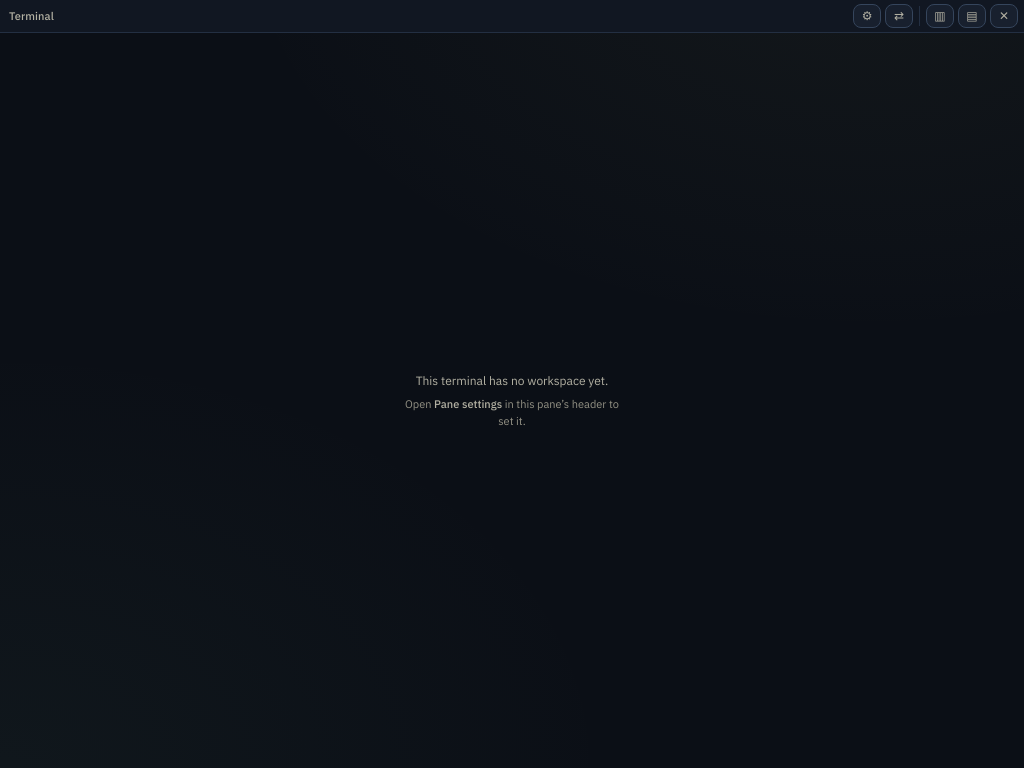
Test case: the settings form is a dialog over the app › is a modal dialog, named for the primitive it configures
Expected: the element with test id "view-host" is shown, [0,0,1023,428]
Click the button "⚙": (867, 16) [853,4,881,28]
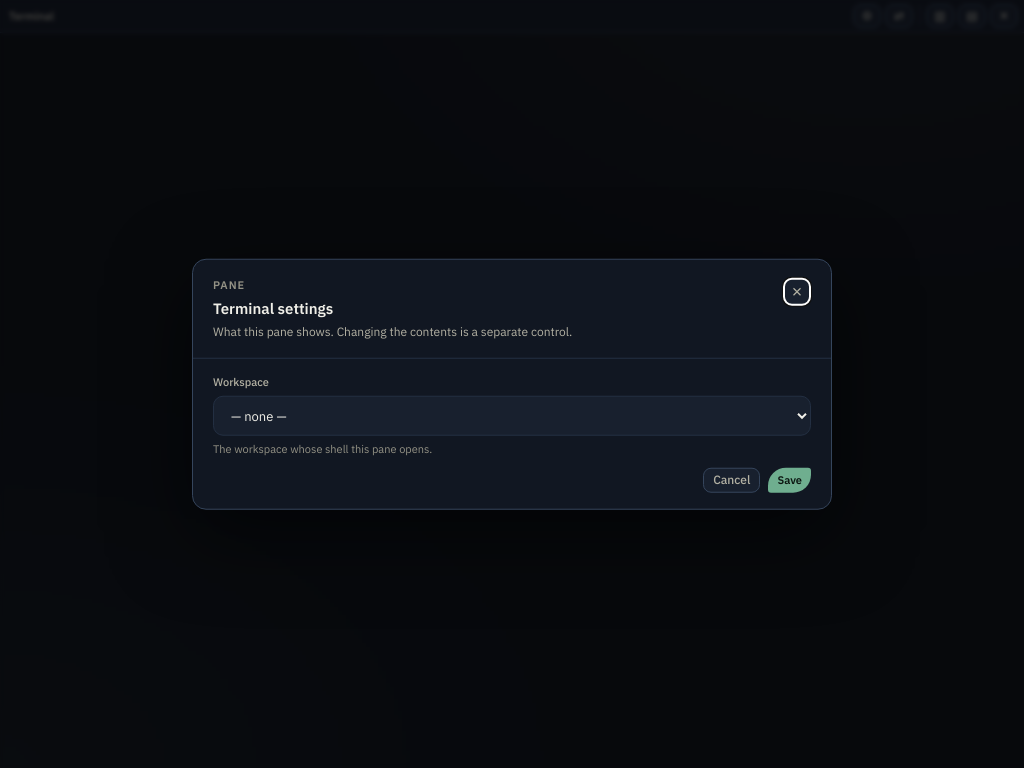
Now the heading "Terminal settings" is shown, box [213,299,333,318]
